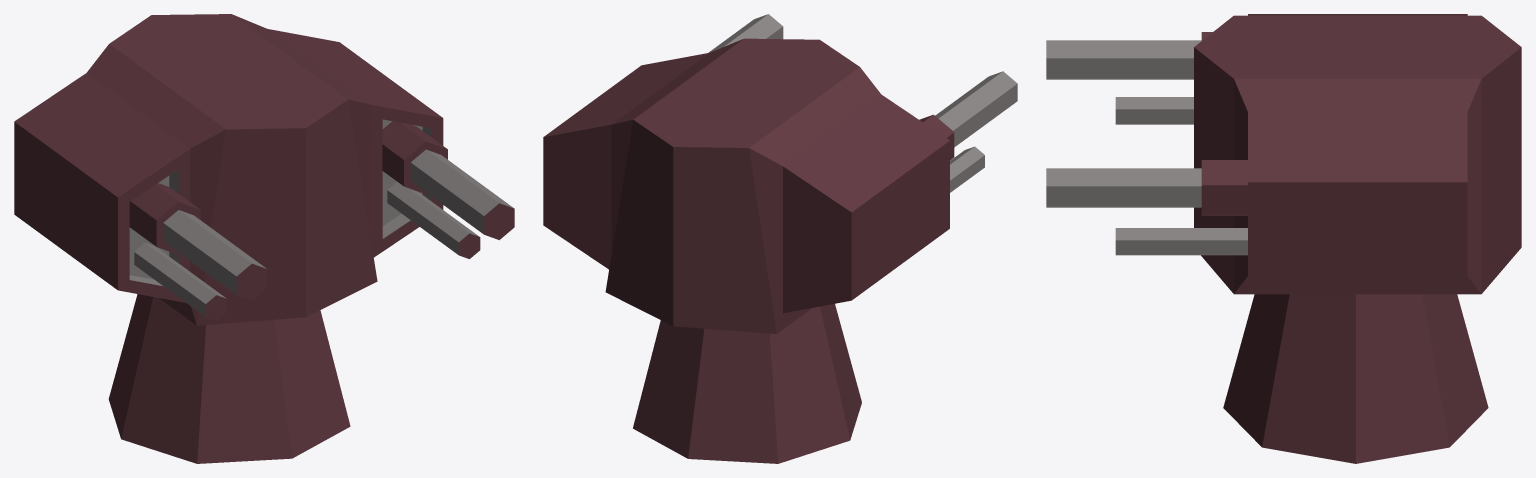
Rendered from scifi-scifi-turret-head-sniper-small.glb.
3 renders of one model, left to right at view 1: azimuth 30°, elevation 25°; view 2: azimuth 150°, elevation 25°; view 3: azimuth 270°, elevation 25°, orthographic. The views are drawn at different scales.
Visible parts, largest first — view 1: scifi-turret-head-sniper-small; view 2: scifi-turret-head-sniper-small; view 3: scifi-turret-head-sniper-small.
Part boxes in pixels (left/top/right/bottom): scifi-turret-head-sniper-small: left=14, top=14, right=514, bottom=463; scifi-turret-head-sniper-small: left=543, top=14, right=1017, bottom=463; scifi-turret-head-sniper-small: left=1046, top=14, right=1521, bottom=463.
Bounding box in the file's own units: 0.9 × 0.9 × 1.07.
